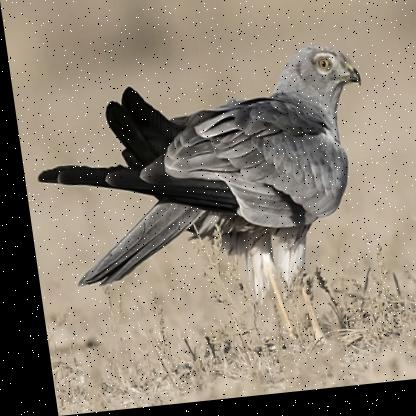Burung: (19, 46, 388, 366)
